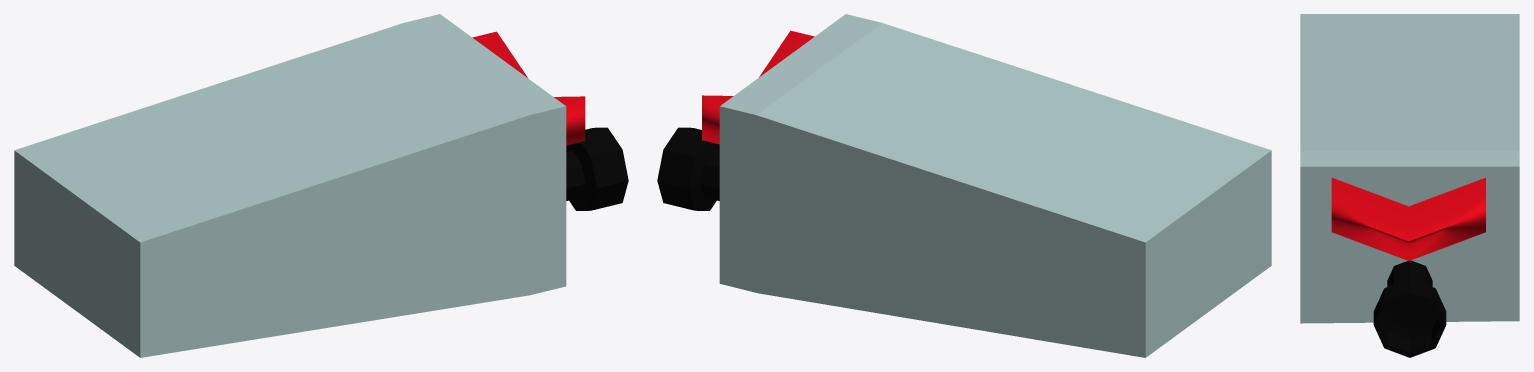
Rendered from TurretHead.fbx.
The picture shows the model from 3 angles, left to right: view 1: azimuth 30°, elevation 25°; view 2: azimuth 150°, elevation 25°; view 3: azimuth 270°, elevation 25°; orthographic projection. The views are drawn at different scales.
Parts seen in each view (by area): view 1: TurretHead; view 2: TurretHead; view 3: TurretHead.
Part boxes in pixels (box(x1,y1,x2,y2)): TurretHead: box(14, 14, 628, 357); TurretHead: box(657, 14, 1271, 357); TurretHead: box(1300, 14, 1519, 357).
Size of the model in its own units: 108 by 35.13 by 44.54.
